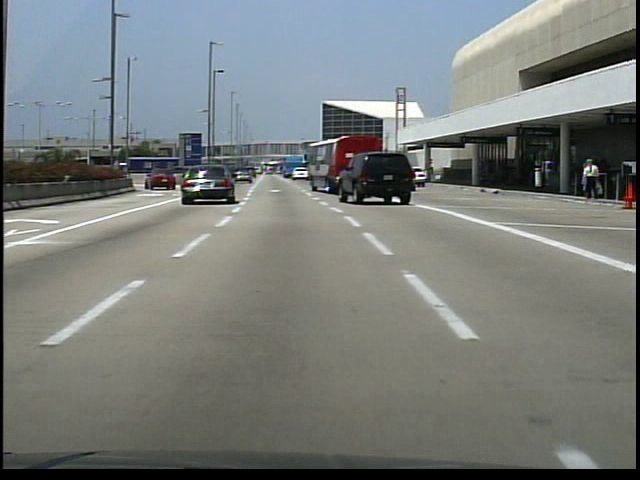person: (576, 154, 602, 203)
